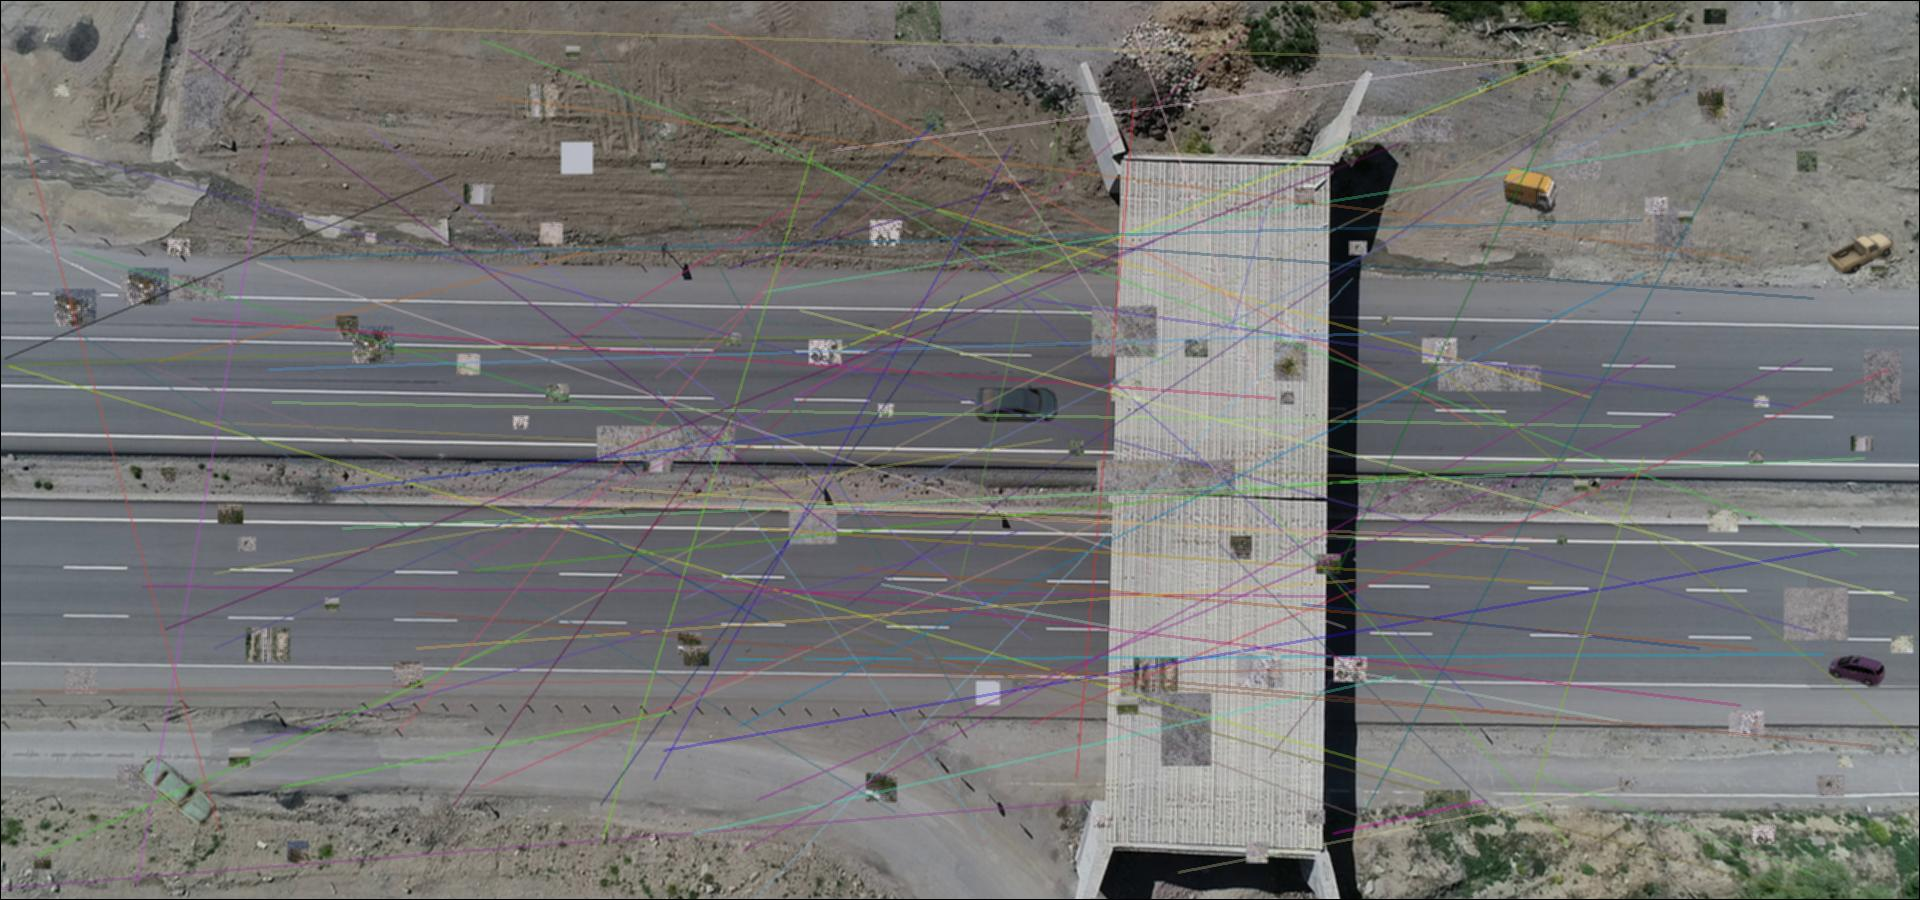arac: (135, 749, 218, 827), (971, 383, 1065, 427), (1828, 229, 1893, 274), (1502, 167, 1558, 214), (1828, 655, 1886, 688)
